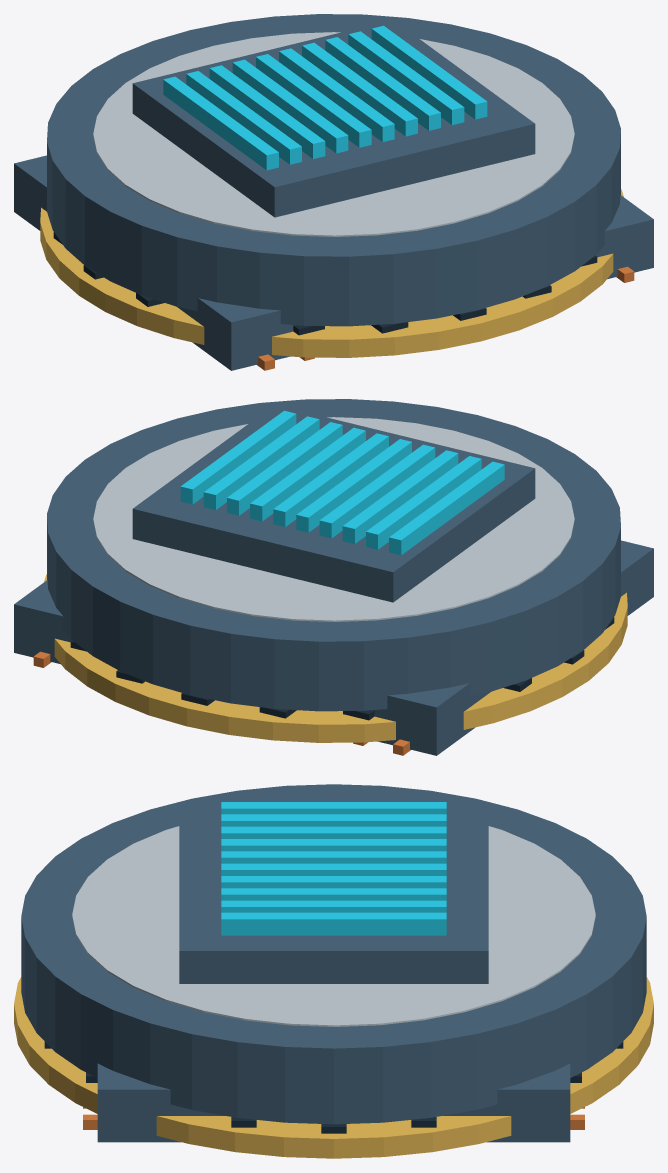
The model's file is 23_L79_UpperDieElectrostaticChuck.fbx.
The picture shows the model from 3 angles, top to bottom: view 1: azimuth 30°, elevation 25°; view 2: azimuth 150°, elevation 25°; view 3: azimuth 270°, elevation 25°; orthographic projection. The views are drawn at different scales.
Visible parts, largest first — view 1: UpperDieElectrostaticChuck, UpperDieElectrostaticChuck_Part_0043, UpperDieElectrostaticChuck_Part_0032, UpperDieElectrostaticChuck_Part_0055, UpperDieElectrostaticChuck_Part_0033, UpperDieElectrostaticChuck_Part_0062, UpperDieElectrostaticChuck_Part_0041, UpperDieElectrostaticChuck_Part_0035, UpperDieElectrostaticChuck_Part_0036, UpperDieElectrostaticChuck_Part_0042, UpperDieElectrostaticChuck_Part_0039, UpperDieElectrostaticChuck_Part_0037 (+3 smaller); view 2: UpperDieElectrostaticChuck, UpperDieElectrostaticChuck_Part_0043, UpperDieElectrostaticChuck_Part_0032, UpperDieElectrostaticChuck_Part_0055, UpperDieElectrostaticChuck_Part_0033, UpperDieElectrostaticChuck_Part_0062, UpperDieElectrostaticChuck_Part_0041, UpperDieElectrostaticChuck_Part_0035, UpperDieElectrostaticChuck_Part_0036, UpperDieElectrostaticChuck_Part_0042, UpperDieElectrostaticChuck_Part_0039, UpperDieElectrostaticChuck_Part_0037 (+3 smaller); view 3: UpperDieElectrostaticChuck, UpperDieElectrostaticChuck_Part_0043, UpperDieElectrostaticChuck_Part_0032, UpperDieElectrostaticChuck_Part_0062, UpperDieElectrostaticChuck_Part_0042, UpperDieElectrostaticChuck_Part_0033, UpperDieElectrostaticChuck_Part_0034, UpperDieElectrostaticChuck_Part_0035, UpperDieElectrostaticChuck_Part_0036, UpperDieElectrostaticChuck_Part_0037, UpperDieElectrostaticChuck_Part_0038, UpperDieElectrostaticChuck_Part_0039 (+2 smaller).
Boxes of the visible parts, <box> form: UpperDieElectrostaticChuck: <box>40,14,634,370</box>; UpperDieElectrostaticChuck_Part_0043: <box>93,32,574,236</box>; UpperDieElectrostaticChuck_Part_0032: <box>132,20,535,217</box>; UpperDieElectrostaticChuck_Part_0055: <box>14,155,294,370</box>; UpperDieElectrostaticChuck_Part_0033: <box>163,76,278,170</box>; UpperDieElectrostaticChuck_Part_0062: <box>595,195,653,279</box>; UpperDieElectrostaticChuck_Part_0041: <box>348,31,464,125</box>; UpperDieElectrostaticChuck_Part_0035: <box>209,65,325,158</box>; UpperDieElectrostaticChuck_Part_0036: <box>232,59,348,153</box>; UpperDieElectrostaticChuck_Part_0042: <box>371,25,487,119</box>; UpperDieElectrostaticChuck_Part_0039: <box>302,42,417,136</box>; UpperDieElectrostaticChuck_Part_0037: <box>256,54,371,147</box>; UpperDieElectrostaticChuck: <box>33,399,627,755</box>; UpperDieElectrostaticChuck_Part_0043: <box>93,417,574,621</box>; UpperDieElectrostaticChuck_Part_0032: <box>132,405,535,602</box>; UpperDieElectrostaticChuck_Part_0055: <box>373,540,653,755</box>; UpperDieElectrostaticChuck_Part_0033: <box>389,461,504,555</box>; UpperDieElectrostaticChuck_Part_0062: <box>14,580,72,664</box>; UpperDieElectrostaticChuck_Part_0041: <box>203,416,319,510</box>; UpperDieElectrostaticChuck_Part_0035: <box>342,450,458,543</box>; UpperDieElectrostaticChuck_Part_0036: <box>319,444,435,538</box>; UpperDieElectrostaticChuck_Part_0042: <box>180,410,296,504</box>; UpperDieElectrostaticChuck_Part_0039: <box>250,427,365,521</box>; UpperDieElectrostaticChuck_Part_0037: <box>296,439,411,532</box>; UpperDieElectrostaticChuck: <box>14,784,653,1158</box>; UpperDieElectrostaticChuck_Part_0043: <box>72,826,595,1026</box>; UpperDieElectrostaticChuck_Part_0032: <box>179,812,488,983</box>; UpperDieElectrostaticChuck_Part_0062: <box>97,1063,570,1142</box>; UpperDieElectrostaticChuck_Part_0042: <box>221,912,446,935</box>; UpperDieElectrostaticChuck_Part_0033: <box>221,802,446,814</box>; UpperDieElectrostaticChuck_Part_0034: <box>221,814,446,826</box>; UpperDieElectrostaticChuck_Part_0035: <box>221,826,446,838</box>; UpperDieElectrostaticChuck_Part_0036: <box>221,839,446,851</box>; UpperDieElectrostaticChuck_Part_0037: <box>221,851,446,863</box>; UpperDieElectrostaticChuck_Part_0038: <box>221,863,446,875</box>; UpperDieElectrostaticChuck_Part_0039: <box>221,876,446,888</box>.
Size of the model in its own units: 176 by 54 by 176.
